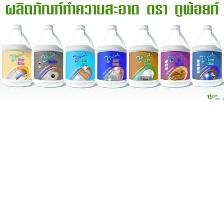cleaning_solution: (125, 22, 162, 90), (0, 21, 35, 89), (30, 23, 66, 89), (62, 22, 97, 89), (94, 23, 128, 90), (189, 21, 223, 88), (157, 23, 191, 89)
